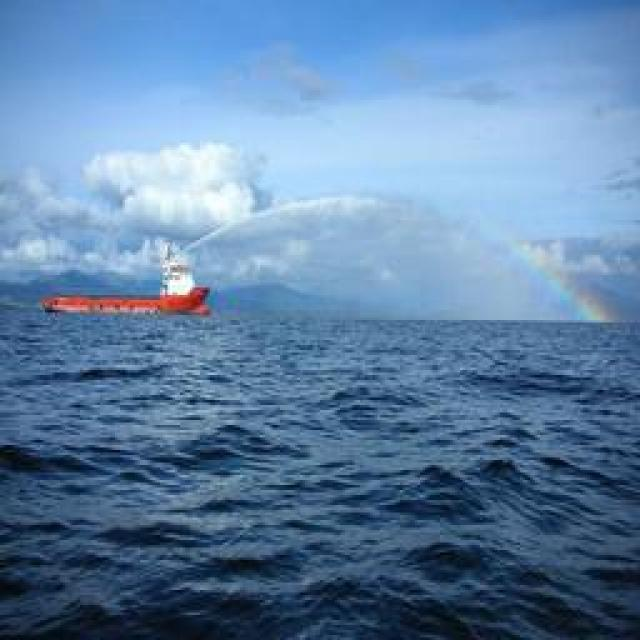ship2: (41, 240, 214, 318)
